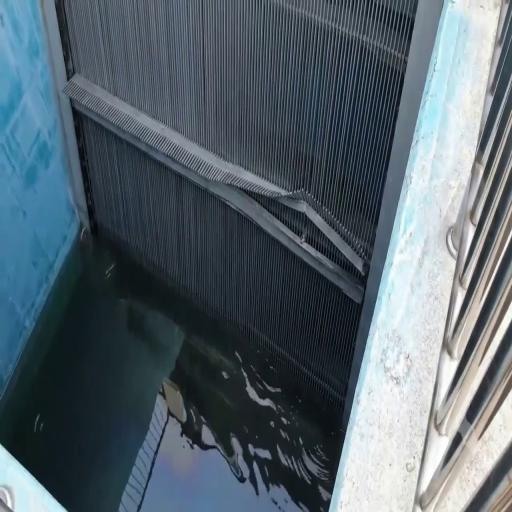rake_broken: (275, 182, 335, 228), (338, 216, 366, 275), (212, 163, 250, 196), (251, 177, 274, 217)
